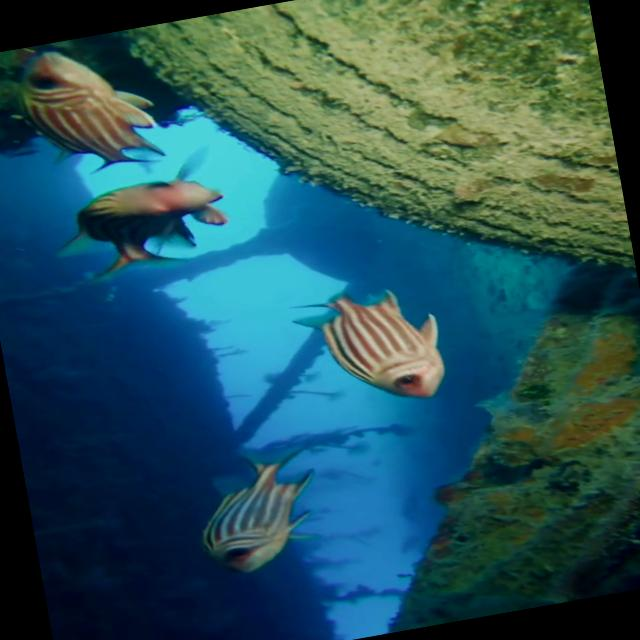Asker Baligi: (40, 144, 236, 289), (4, 32, 168, 185), (284, 276, 452, 419), (183, 442, 331, 582)
